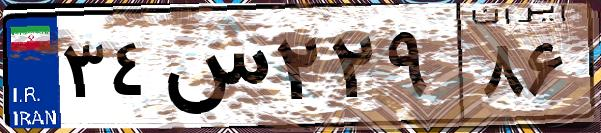2: (270, 28, 330, 110), (330, 28, 385, 110)
3: (57, 26, 110, 100)
4: (110, 28, 158, 98)
6: (525, 38, 570, 115)
8: (475, 38, 525, 113)
9: (385, 28, 445, 110)
س: (158, 20, 270, 120)
